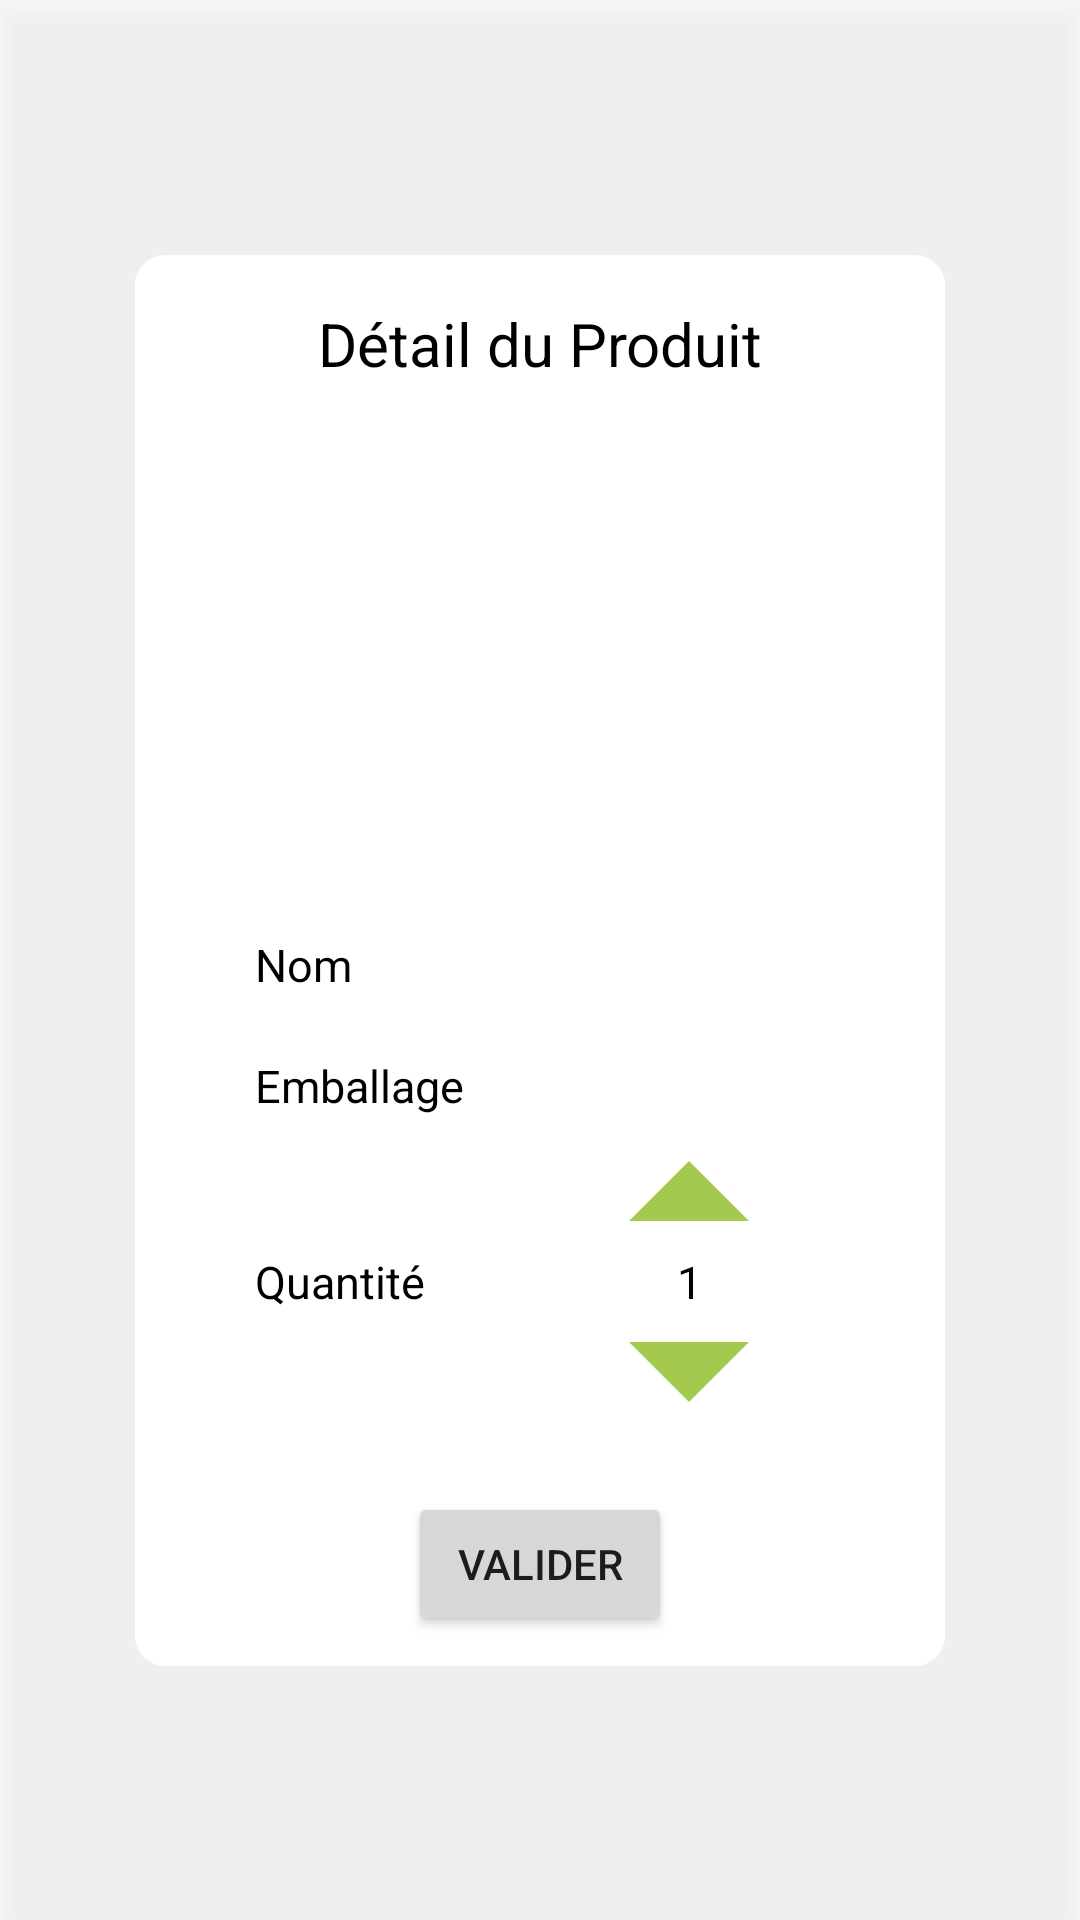

Named icons in this screenshot (1080px x 1920px) and their centers, point (x, y):
arrow full down: point (689, 1372)
arrow full up: point (689, 1191)
